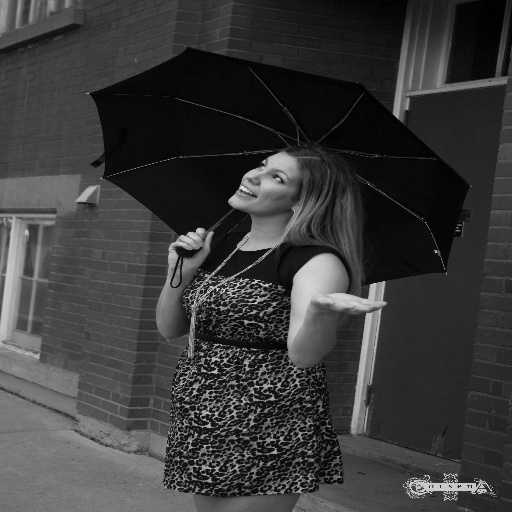hand: (170, 229, 224, 270), (307, 292, 386, 316)
